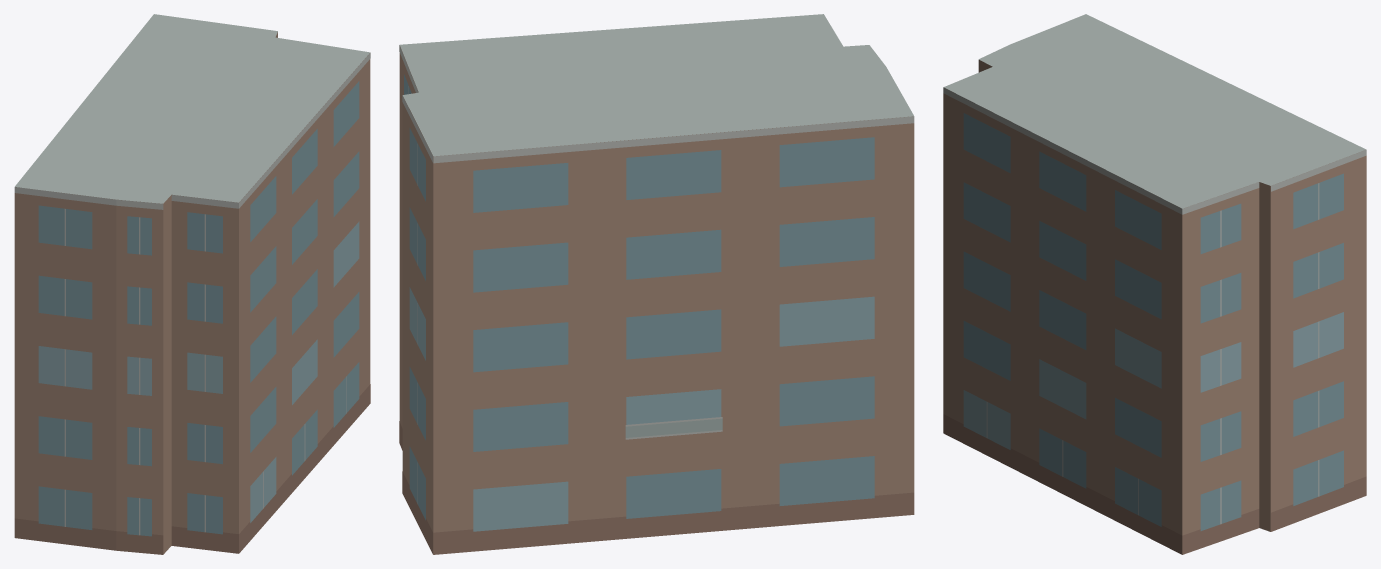
The model's file is survey-upis-32779246.glb.
3 views of the same model, side by side, from view 1: azimuth 30°, elevation 25°; view 2: azimuth 150°, elevation 25°; view 3: azimuth 270°, elevation 25° (orthographic). The views are drawn at different scales.
Parts seen in each view (by area): view 1: survey-upis-32779246.tmp; view 2: survey-upis-32779246.tmp; view 3: survey-upis-32779246.tmp.
Part boxes in pixels (left/top/right/bottom): survey-upis-32779246.tmp: left=14, top=14, right=370, bottom=554; survey-upis-32779246.tmp: left=399, top=14, right=914, bottom=554; survey-upis-32779246.tmp: left=943, top=14, right=1366, bottom=554.
Size of the model in its own units: 16.84 by 13.95 by 15.46.
